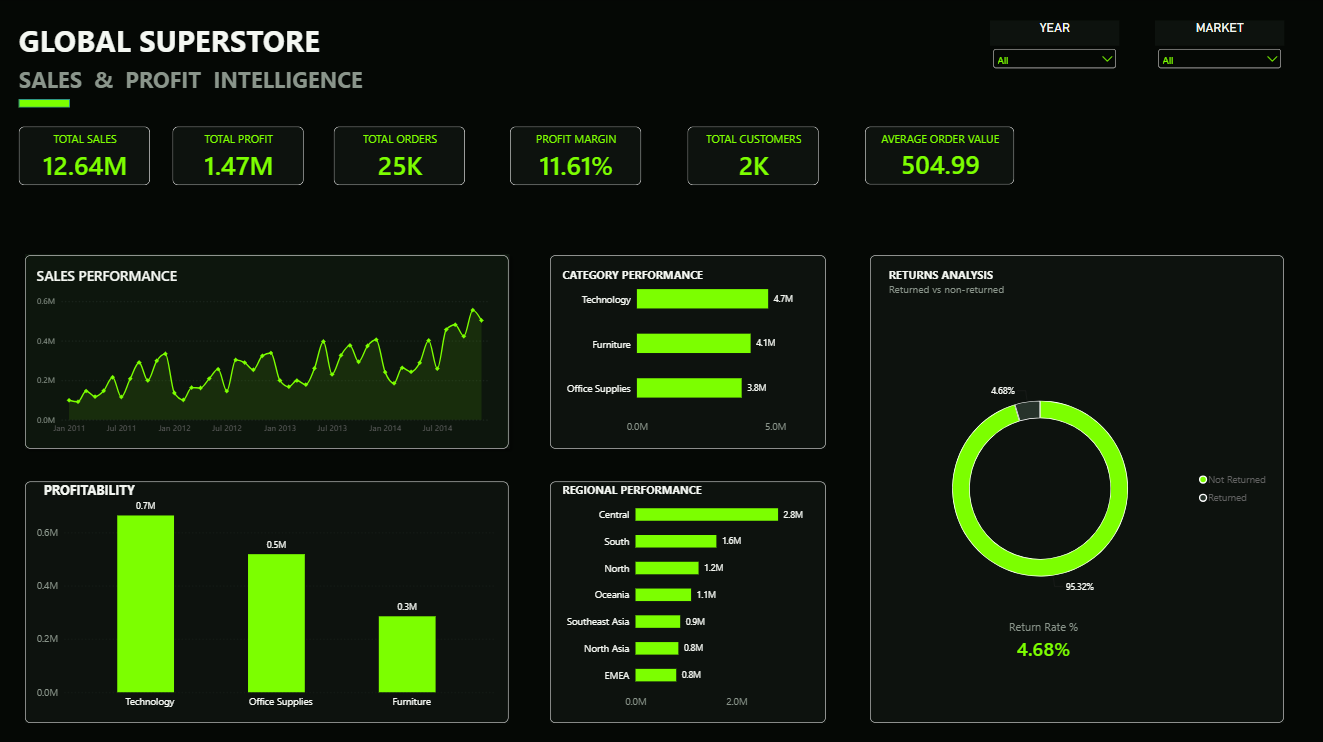

Layout of this report page (visuals, bound fields, positions):
{"tool":"powerbi","page":{"name":"01 Executive Overview","canvas":[1920,1080],"ordinal":0},"visuals":[{"type":"textbox","box":[26.8,30.9,481.6,63.8],"z":0},{"type":"textbox","box":[26.8,94.7,524.9,47.3],"z":1000},{"type":"shape","box":[26.8,144.1,74.1,12.3],"z":2000},{"type":"slicer","title":"YEAR","fields":{"Values":["DateTable.Year"]},"box":[1432.6,30.9,187.3,100.9],"z":3000},{"type":"slicer","title":"MARKET","fields":{"Values":["Orders.Market"]},"box":[1671.4,30.9,187.3,100.9],"z":4000},{"type":"cardVisual","fields":{"Data":["_Measures.Total Sales"]},"box":[27.1,185.4,190,85],"z":5000},{"type":"cardVisual","fields":{"Data":["_Measures.Total Profit"]},"box":[250,185.4,190,85],"z":6000},{"type":"cardVisual","fields":{"Data":["_Measures.Total Orders"]},"box":[483.3,185.4,190,85],"z":7000},{"type":"cardVisual","fields":{"Data":["_Measures.Profit Margin %"]},"box":[737.5,185.4,190,85],"z":8000},{"type":"shape","box":[26.8,360.2,720,300],"z":9000},{"type":"lineChart","title":"SALES PERFORMANCE","fields":{"Y":["_Measures.Total Sales"],"Category":["DateTable.Month Start_1"]},"box":[37,370.5,700,280],"z":10000},{"type":"shape","box":[796.6,370.5,399.3,279.9],"z":11000},{"type":"clusteredBarChart","fields":{"Category":["Orders.Category"],"Y":["_Measures.Total Sales"]},"box":[796.6,370.5,399.3,279.9],"z":12000},{"type":"textbox","box":[815.1,387,380.8,263.5],"z":13000},{"type":"shape","box":[37,697.8,699.8,349.9],"z":14000},{"type":"textbox","box":[63.8,697.8,135.8,24.7],"z":15000},{"type":"clusteredColumnChart","fields":{"Y":["_Measures.Total Profit"],"Category":["Orders.Category"]},"box":[37,697.8,699.8,349.9],"z":16000},{"type":"shape","box":[796.6,697.8,399.3,349.9],"z":17000},{"type":"textbox","box":[815.1,697.8,263.5,47.3],"z":18000},{"type":"clusteredBarChart","fields":{"Category":["Orders.Region"],"Y":["_Measures.Total Sales"]},"box":[796.6,697.8,399.3,349.9],"z":19000},{"type":"shape","box":[1259.7,370.5,599,677.2],"z":20000},{"type":"textbox","box":[1286.5,387,370.5,45.3],"z":21000},{"type":"donutChart","fields":{"Category":["Return Status.Status"],"Y":["_Measures.Return Status Orders"]},"box":[1259.7,370.5,599,677.2],"z":22000},{"type":"cardVisual","fields":{"Data":["_Measures.Return Rate %"]},"box":[1360.6,856.3,300.5,146.1],"z":23000},{"type":"textbox","box":[1286.5,409.6,261.4,72],"z":24000},{"type":"cardVisual","fields":{"Data":["_Measures.Total Customers"]},"box":[995.8,185.4,190,85],"z":25000},{"type":"cardVisual","fields":{"Data":["_Measures.Average Order Value"]},"box":[1252.1,185.4,216.1,84.4],"z":26000}]}

Visuals, with their boxes in screenshot pixels (x1, y1, x2, y2), scaled from the page's 1920x1080 canvas onto the 1323x742 screenshot:
textbox: 18 21 350 65
textbox: 18 65 380 98
shape: 18 99 70 107
"YEAR" slicer: 987 21 1116 91
"MARKET" slicer: 1152 21 1281 91
cardVisual - _Measures.Total Sales: 19 127 150 186
cardVisual - _Measures.Total Profit: 172 127 303 186
cardVisual - _Measures.Total Orders: 333 127 464 186
cardVisual - _Measures.Profit Margin %: 508 127 639 186
shape: 18 247 515 454
"SALES PERFORMANCE" lineChart: 25 255 508 447
shape: 549 255 824 447
clusteredBarChart - Orders.Category x _Measures.Total Sales: 549 255 824 447
textbox: 562 266 824 447
shape: 25 479 508 720
textbox: 44 479 138 496
clusteredColumnChart - _Measures.Total Profit x Orders.Category: 25 479 508 720
shape: 549 479 824 720
textbox: 562 479 743 512
clusteredBarChart - Orders.Region x _Measures.Total Sales: 549 479 824 720
shape: 868 255 1281 720
textbox: 886 266 1142 297
donutChart - Return Status.Status x _Measures.Return Status Orders: 868 255 1281 720
cardVisual - _Measures.Return Rate %: 938 588 1145 689
textbox: 886 281 1067 331
cardVisual - _Measures.Total Customers: 686 127 817 186
cardVisual - _Measures.Average Order Value: 863 127 1012 185
